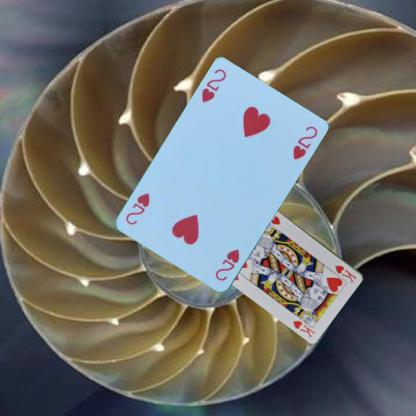2h: (198, 66, 228, 104), (213, 247, 241, 283)
Kh: (333, 262, 358, 284)
